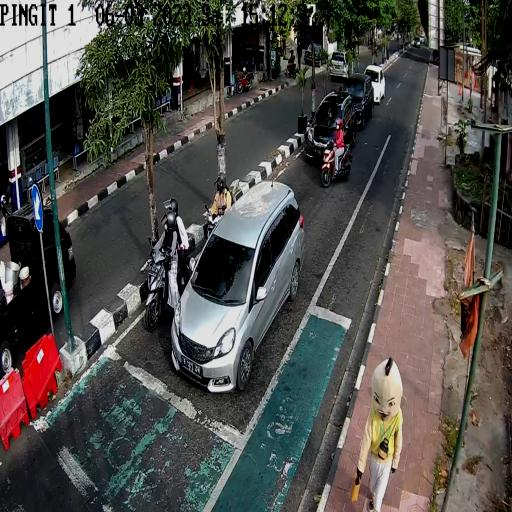mobil: (170, 177, 304, 388), (304, 91, 356, 163), (338, 70, 375, 129), (361, 63, 387, 108)
motor: (146, 245, 176, 337), (320, 137, 352, 186), (200, 194, 221, 258)
